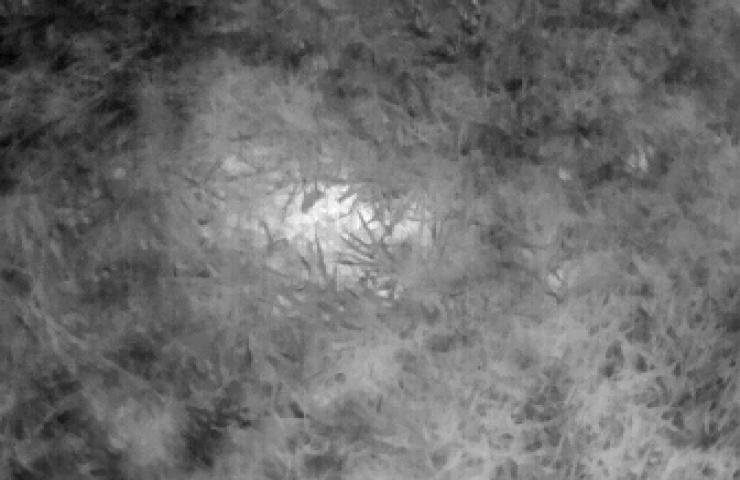landmines: (236, 161, 436, 306)
